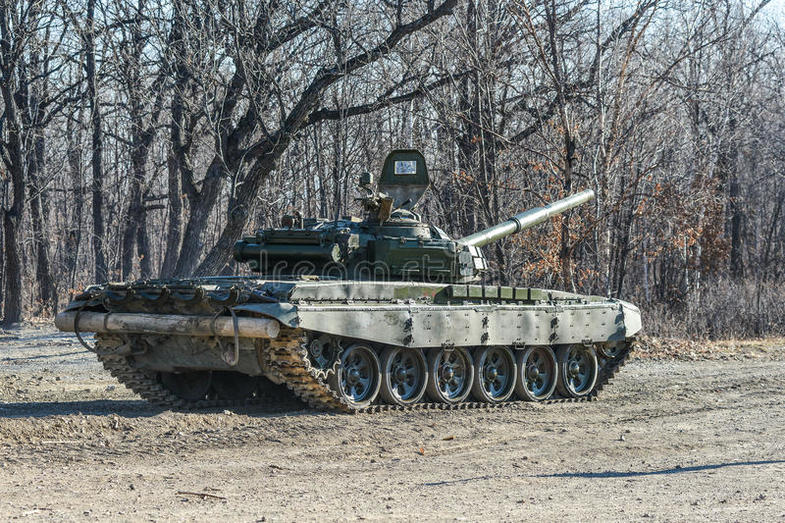t72: (56, 201, 640, 409)
